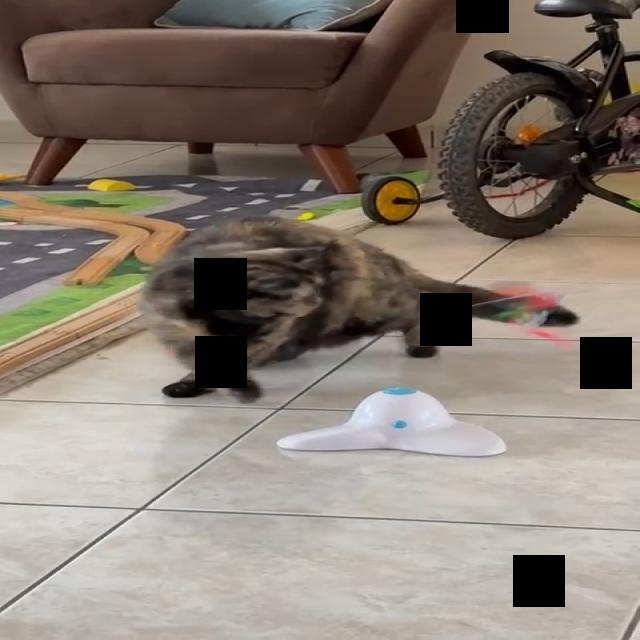authorized: (136, 215, 579, 404)
